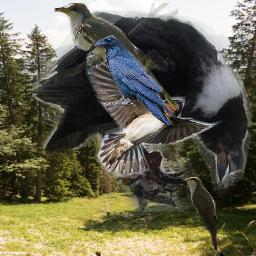Crow: (32, 10, 252, 212), (93, 35, 176, 125)
Cuckoo: (54, 3, 178, 110), (182, 176, 220, 252)
Swallow: (85, 38, 222, 178)
